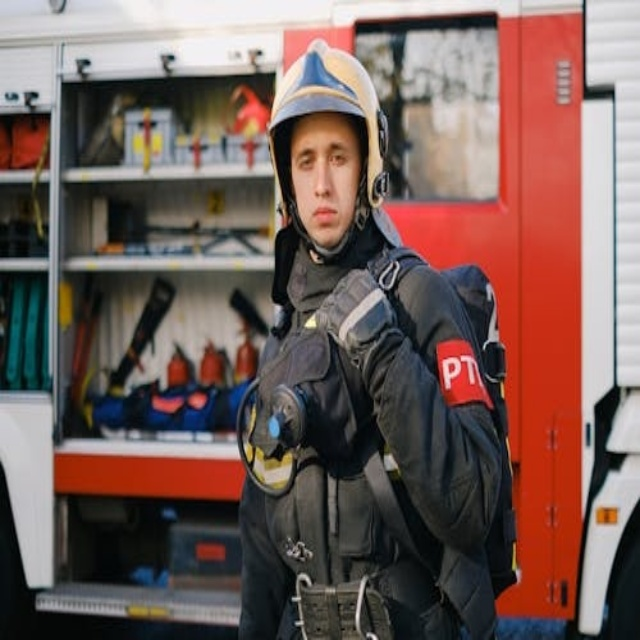Guantes: (300, 250, 404, 381)
Sin_mascara: (300, 200, 343, 236)
